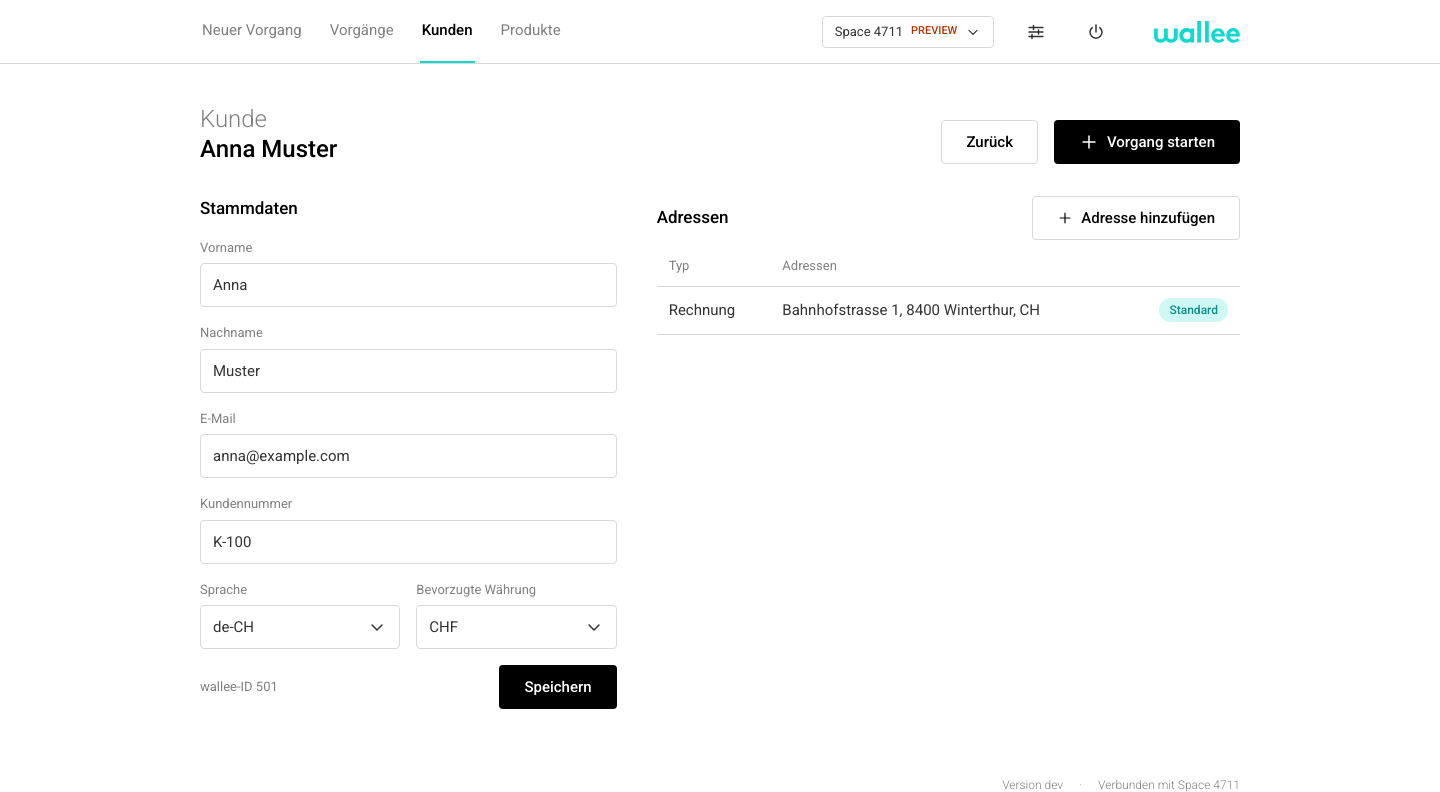
it: CustomerDetailPage › adds an address and starts a transaction with the customer preselected
The width and height of the screenshot is (1440, 792).
Expected: the field labelled "Vorname" is shown, [200,263,617,307]
Click the button "Adresse hinzufügen" at {"x": 1136, "y": 218}, box [1032,196,1240,240]
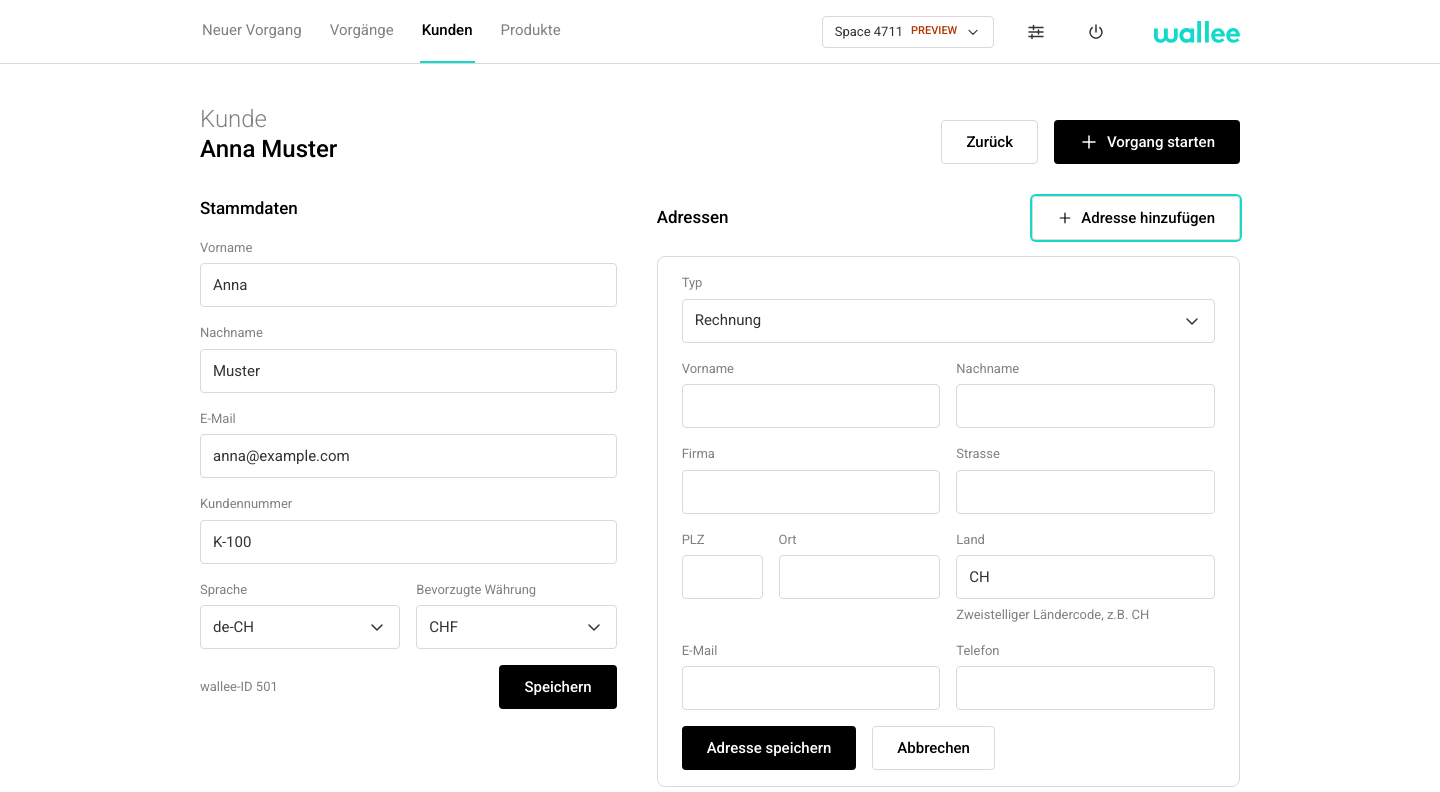
Type "Seestrasse 5" into the field labelled "Strasse" at {"x": 1086, "y": 492}, box [956,470,1215,514]
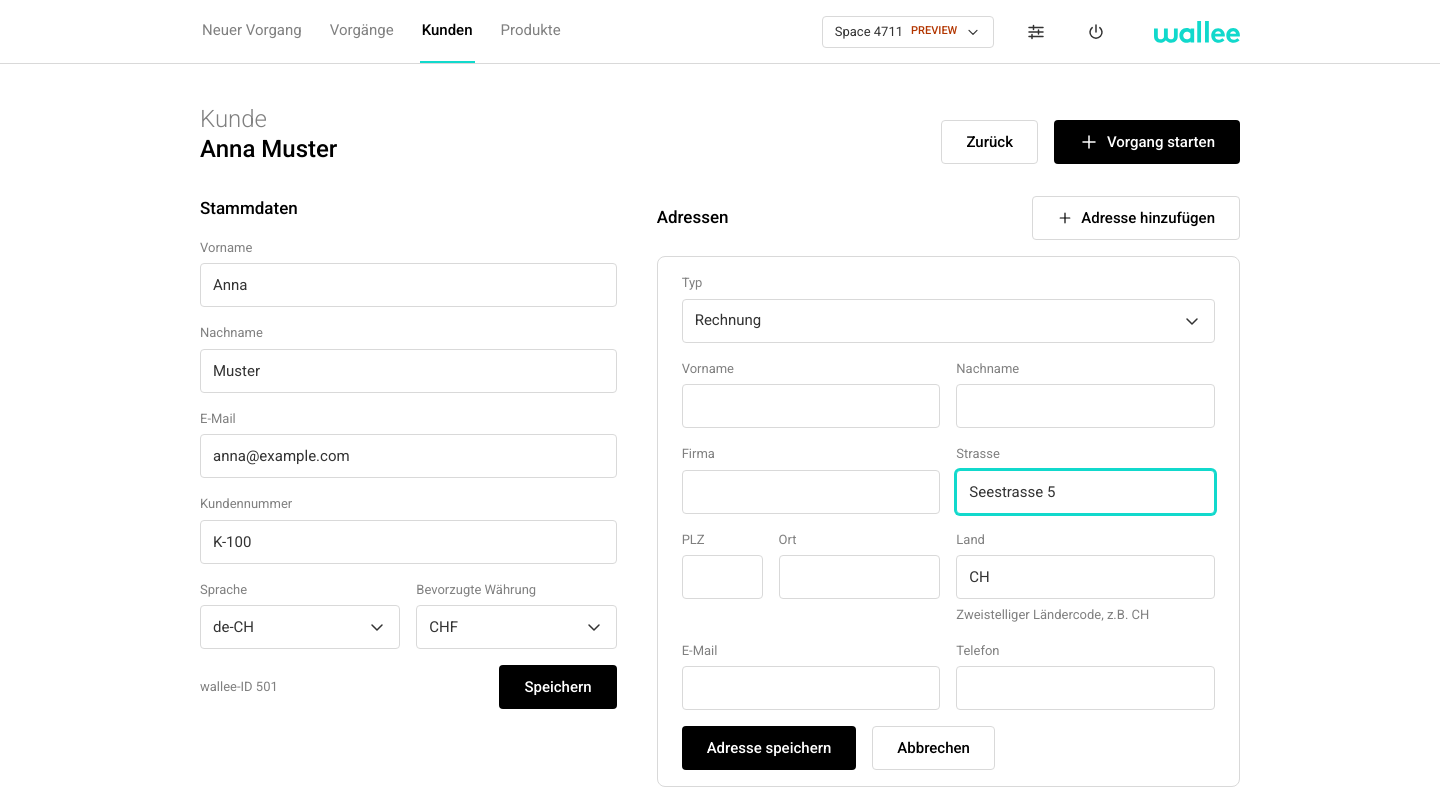
Click the button "Adresse speichern" at {"x": 769, "y": 748}, box [682,726,856,770]
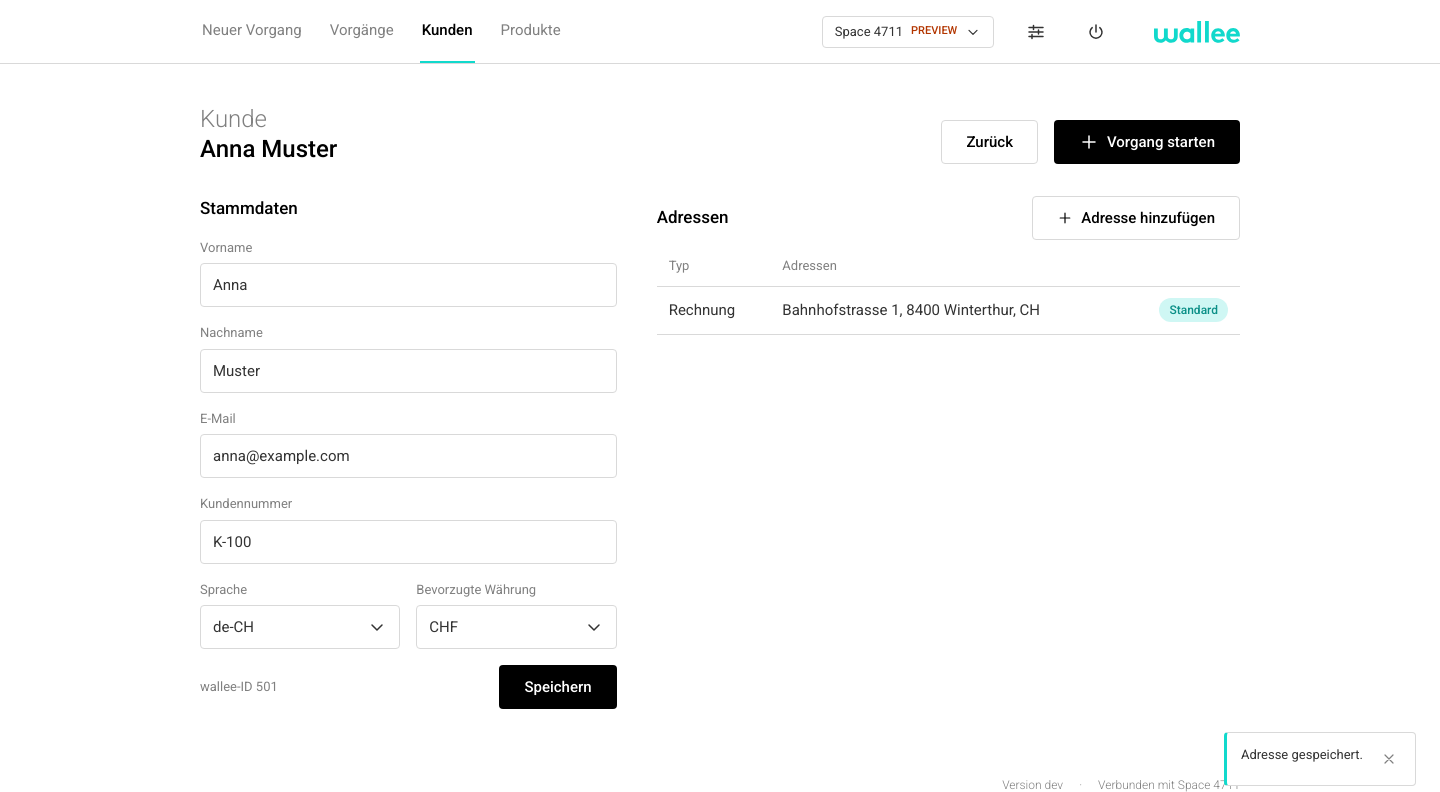
Click the button "Vorgang starten" at {"x": 1147, "y": 142}, box [1054,120,1240,164]
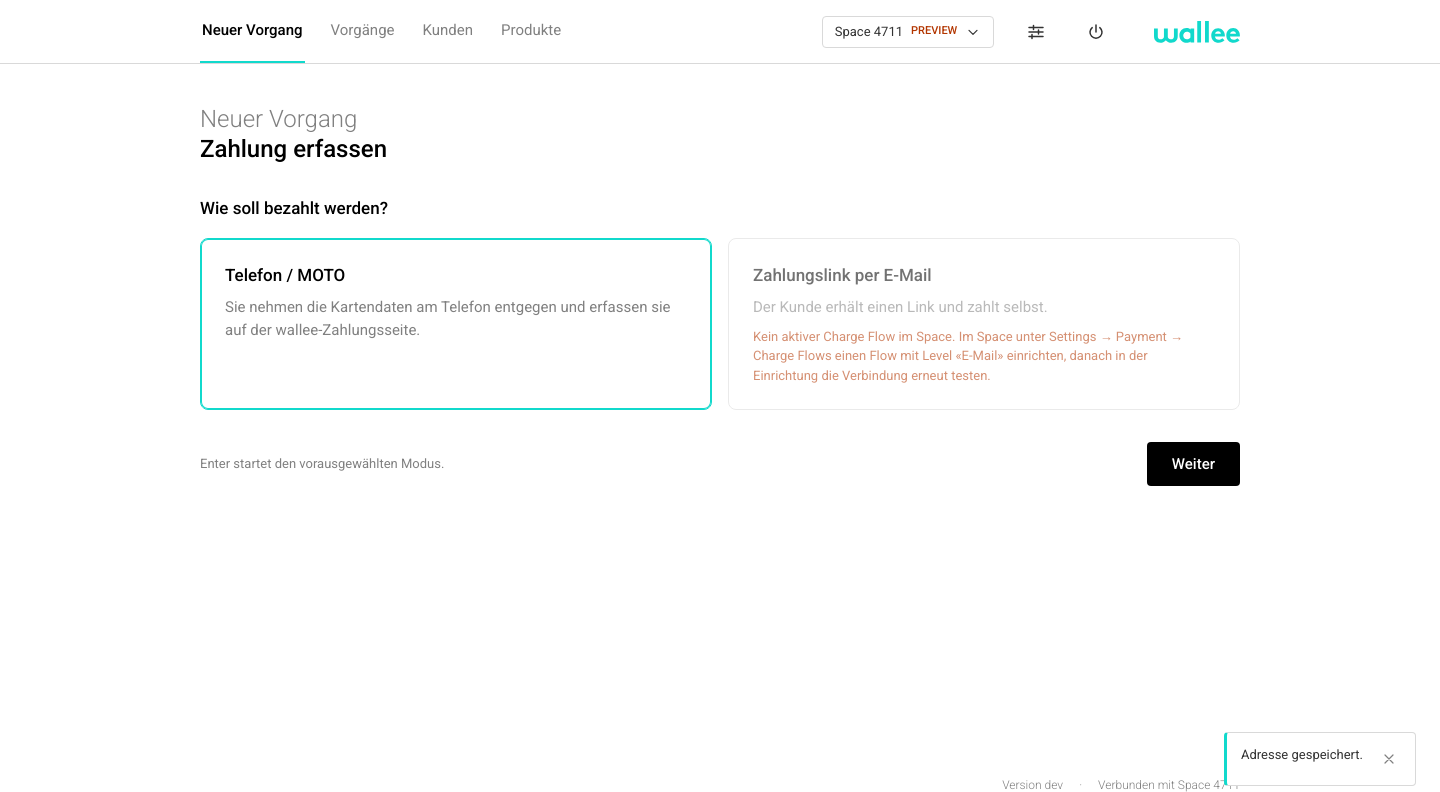
Click the button "Telefon / MOTO" at {"x": 285, "y": 274}, box [200,238,712,410]
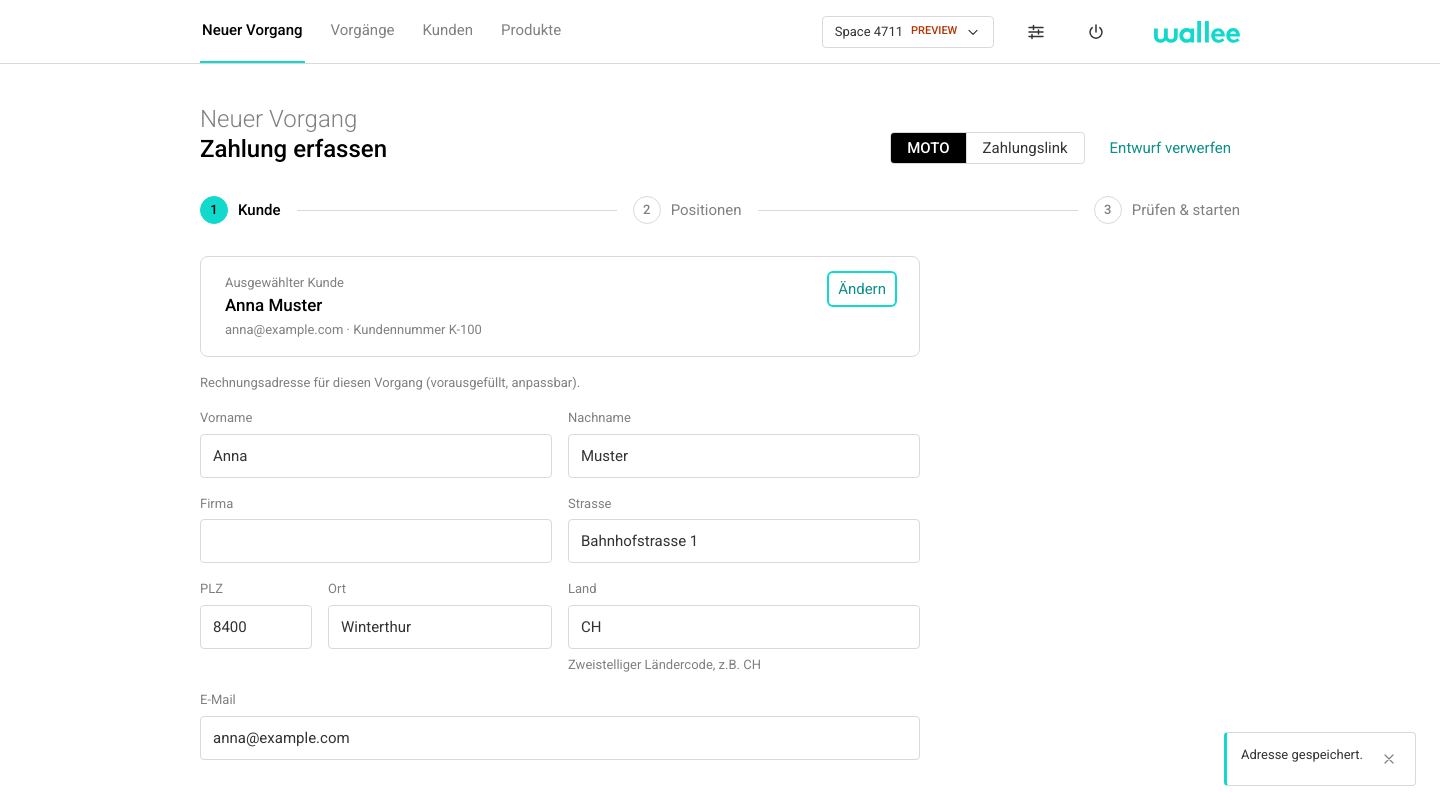
Expected: the text "Anna Muster" is shown, [225,294,322,314]
Expected: the field showing "Bahnhofstrasse 1" is shown, [568,519,920,563]
